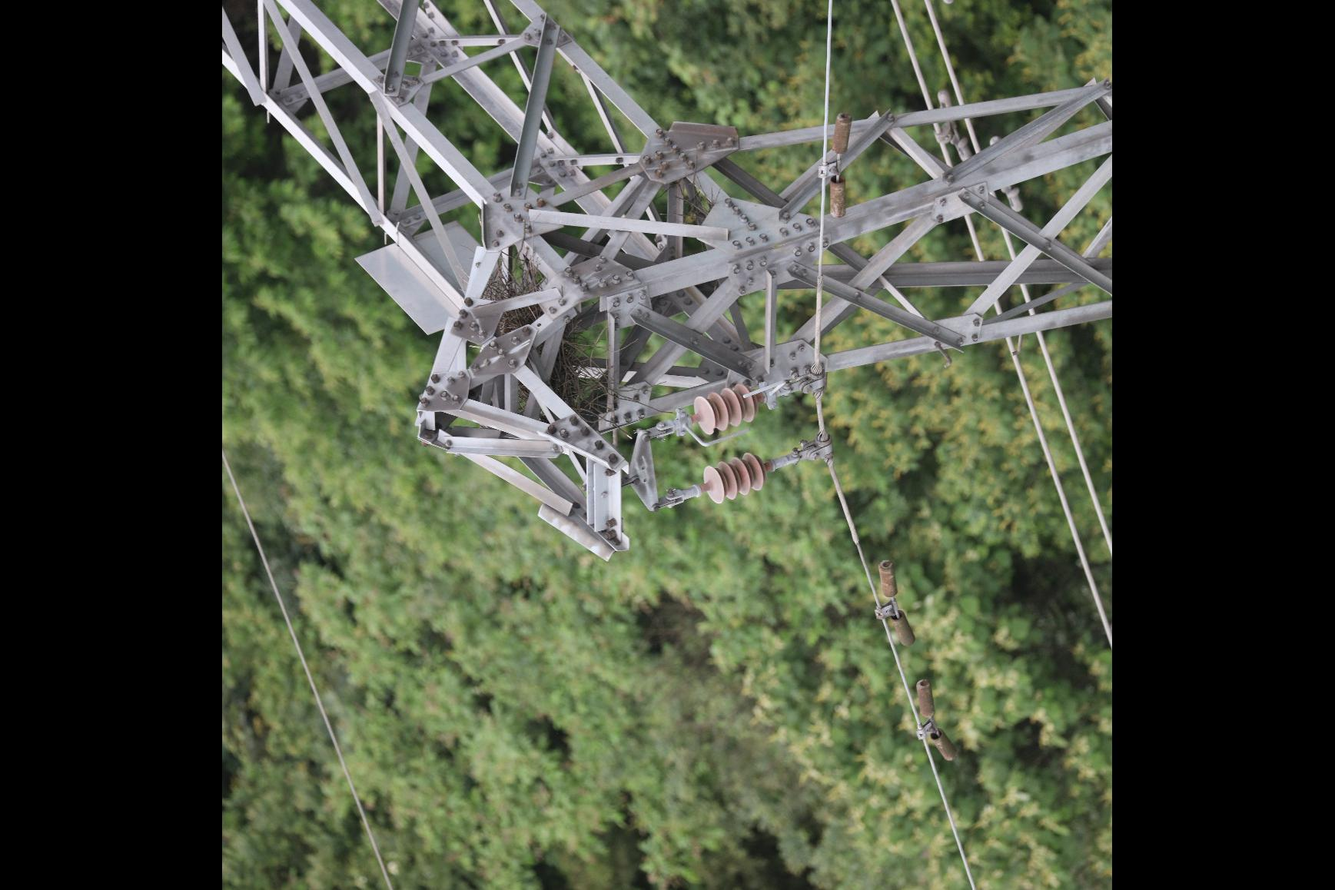damper: (815, 108, 858, 223), (910, 674, 961, 765), (872, 554, 918, 654), (932, 85, 976, 163)
nest: (485, 257, 610, 418)
